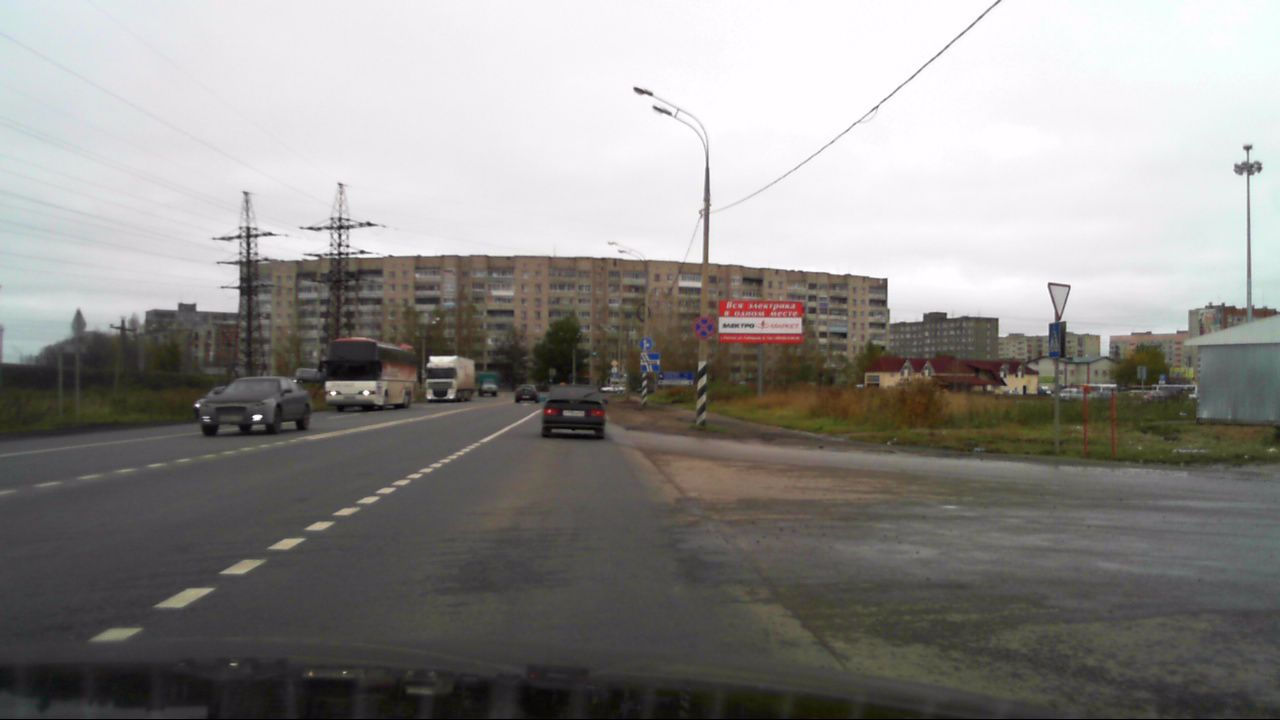No Parking: (692, 314, 715, 339)
